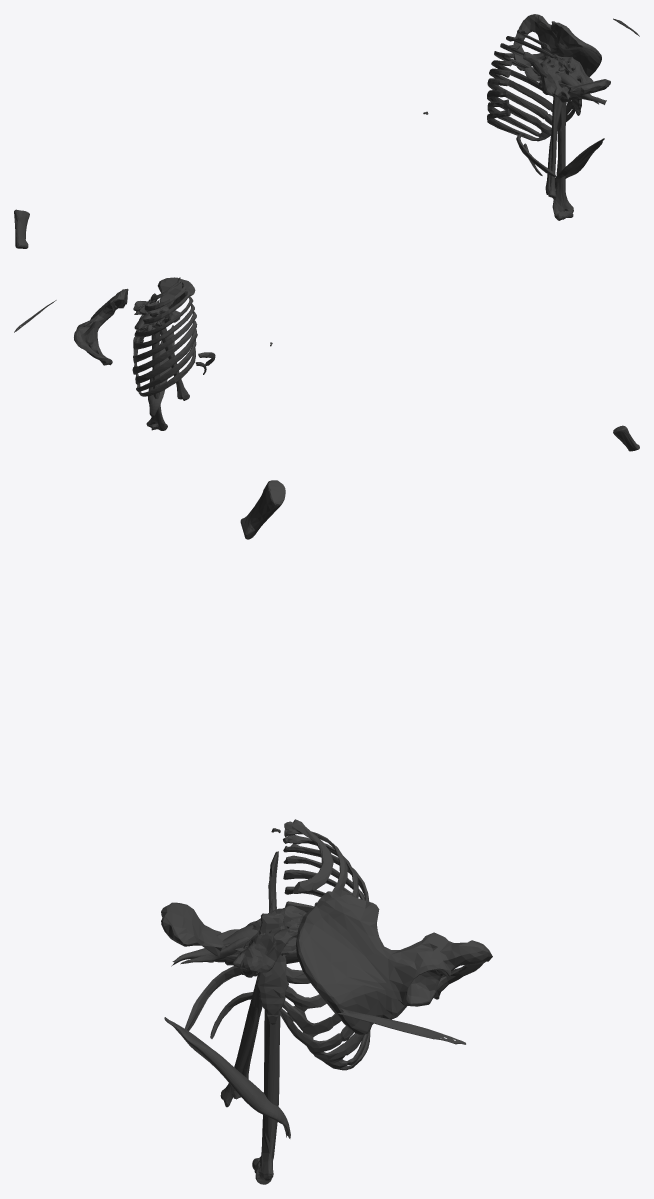
File: sharedassets40.glb
3 views of the same model, one above another, from view 1: azimuth 30°, elevation 25°; view 2: azimuth 150°, elevation 25°; view 3: azimuth 270°, elevation 25° (orthographic). The views are drawn at different scales.
Visible parts, largest first — view 1: 0091_Ilium, R__001012, 0087_S01-05 Sacrum__001242, 0006_Humerus _arm, brachium_, R__000807, 0073_Seventh rib _07_, R__002279, 0072_Sixth rib _06_, R__002278, 0064_Eighth rib _08_, R__002280, 0089_Ischium, R__001010, 0034_Ulna _forearm, antebrachium_, R__000808, 0003_Triceps _brachii_, medial head, R__10004, 0010_2nd Middle phalanx _hand_, R__000815, 0065_Ninth rib _09_, R__002281, 0066_Tenth rib _10_, R__002282 (+3 smaller); view 2: 0091_Ilium, R__001012, 0064_Eighth rib _08_, R__002280, 0073_Seventh rib _07_, R__002279, 0006_Humerus _arm, brachium_, R__000807, 0060_Manubrium__001162, 0072_Sixth rib _06_, R__002278, 0089_Ischium, R__001010, 0065_Ninth rib _09_, R__002281, 0003_Triceps _brachii_, medial head, R__10004, 0071_Fifth rib _05_, R__002277, 0066_Tenth rib _10_, R__002282, 0087_S01-05 Sacrum__001242 (+4 smaller); view 3: 0091_Ilium, R__001012, 0006_Humerus _arm, brachium_, R__000807, 0089_Ischium, R__001010, 0087_S01-05 Sacrum__001242, 0003_Triceps _brachii_, medial head, R__10004, 0060_Manubrium__001162, 0061_Body of sternum__001163, 0090_Pubis, R__001011, 0010_2nd Middle phalanx _hand_, R__000815, 0072_Sixth rib _06_, R__002278, 0067_First rib _01_, R__002273, 0073_Seventh rib _07_, R__002279 (+2 smaller).
Part boxes in pixels (x1,y1,x2,y2): 0091_Ilium, R__001012: (547,21,601,77); 0087_S01-05 Sacrum__001242: (540,54,593,102); 0006_Humerus _arm, brachium_, R__000807: (552,102,573,220); 0073_Seventh rib _07_, R__002279: (487,78,575,128); 0072_Sixth rib _06_, R__002278: (489,68,573,115); 0064_Eighth rib _08_, R__002280: (487,89,557,136); 0089_Ischium, R__001010: (513,14,552,44); 0034_Ulna _forearm, antebrachium_, R__000808: (548,67,564,199); 0003_Triceps _brachii_, medial head, R__10004: (555,138,604,186); 0010_2nd Middle phalanx _hand_, R__000815: (14,209,29,248); 0065_Ninth rib _09_, R__002281: (487,99,548,139); 0066_Tenth rib _10_, R__002282: (487,109,544,141); 0091_Ilium, R__001012: (86,288,128,342); 0064_Eighth rib _08_, R__002280: (135,329,197,384); 0073_Seventh rib _07_, R__002279: (132,320,197,374); 0006_Humerus _arm, brachium_, R__000807: (146,331,167,430); 0060_Manubrium__001162: (157,277,195,304); 0072_Sixth rib _06_, R__002278: (133,311,196,363); 0089_Ischium, R__001010: (74,320,98,357); 0065_Ninth rib _09_, R__002281: (136,340,196,391); 0003_Triceps _brachii_, medial head, R__10004: (148,325,174,417); 0071_Fifth rib _05_, R__002277: (133,304,194,349); 0066_Tenth rib _10_, R__002282: (138,348,195,396); 0087_S01-05 Sacrum__001242: (133,300,180,323); 0091_Ilium, R__001012: (296,890,418,1034); 0006_Humerus _arm, brachium_, R__000807: (252,1009,280,1184); 0089_Ischium, R__001010: (409,932,492,977); 0087_S01-05 Sacrum__001242: (224,905,306,977); 0003_Triceps _brachii_, medial head, R__10004: (164,1017,290,1138); 0060_Manubrium__001162: (161,902,223,956); 0061_Body of sternum__001163: (256,913,288,1015); 0090_Pubis, R__001011: (407,966,474,1006); 0010_2nd Middle phalanx _hand_, R__000815: (240,480,285,539); 0072_Sixth rib _06_, R__002278: (282,869,352,1036); 0067_First rib _01_, R__002273: (284,819,333,893); 0073_Seventh rib _07_, R__002279: (279,886,353,1054).
Bounding box in the file's own units: 0.7785 × 0.2153 × 0.1959.
Materials: 1 (1 with a texture image).
